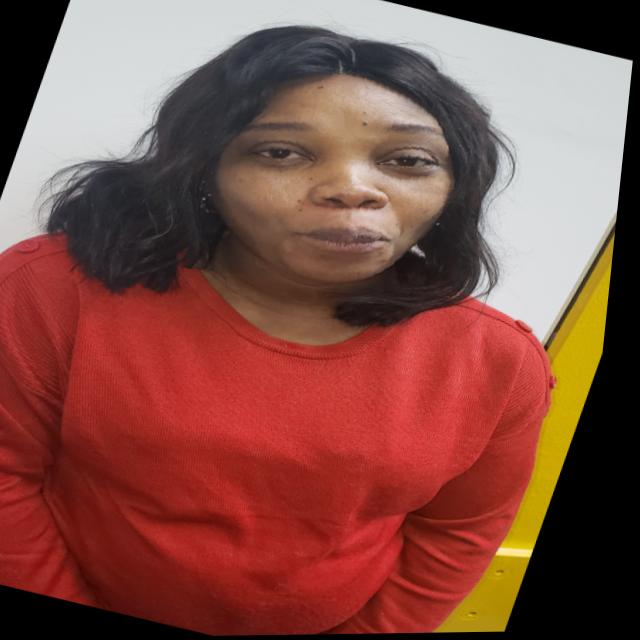sad: (164, 22, 524, 325)
